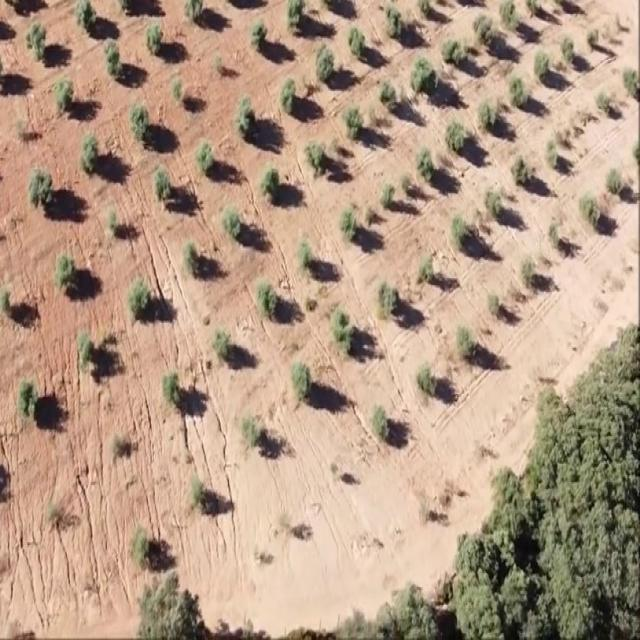trees: (9, 358, 45, 447), (334, 294, 372, 366), (122, 510, 154, 590), (407, 41, 443, 111), (122, 266, 158, 328), (150, 151, 183, 218), (26, 156, 58, 222), (70, 319, 103, 382), (474, 81, 505, 148), (468, 4, 507, 55), (367, 392, 397, 457), (373, 270, 406, 328), (448, 313, 481, 371), (439, 110, 472, 168), (158, 357, 188, 420), (285, 352, 317, 410), (228, 87, 256, 153), (254, 152, 284, 211), (124, 94, 156, 149), (292, 226, 320, 288), (448, 203, 480, 257), (239, 403, 271, 456), (311, 32, 341, 88), (253, 270, 283, 326), (413, 352, 443, 408), (436, 25, 471, 73), (182, 468, 209, 530), (20, 13, 54, 62), (508, 150, 539, 203), (336, 188, 362, 251), (217, 194, 246, 250), (374, 66, 404, 120), (339, 94, 370, 146), (178, 228, 203, 291), (74, 123, 102, 179), (576, 186, 606, 238), (380, 0, 409, 53), (49, 67, 76, 121), (100, 196, 128, 248), (343, 18, 372, 68), (304, 129, 334, 177), (412, 140, 438, 195), (98, 36, 125, 88), (544, 207, 572, 257), (51, 245, 78, 295), (212, 316, 237, 370), (480, 278, 508, 326), (374, 172, 401, 220), (192, 129, 218, 178), (506, 63, 531, 113), (614, 56, 640, 104), (246, 12, 273, 57), (276, 68, 300, 118), (517, 242, 541, 291), (482, 178, 507, 225), (556, 27, 580, 74), (284, 0, 309, 44), (418, 246, 443, 290), (142, 15, 166, 60), (603, 159, 631, 197), (582, 18, 604, 63), (544, 127, 564, 175), (71, 0, 98, 35), (166, 72, 187, 116), (212, 39, 231, 84), (532, 42, 552, 84), (592, 80, 614, 117), (0, 282, 17, 324), (495, 0, 518, 31)
